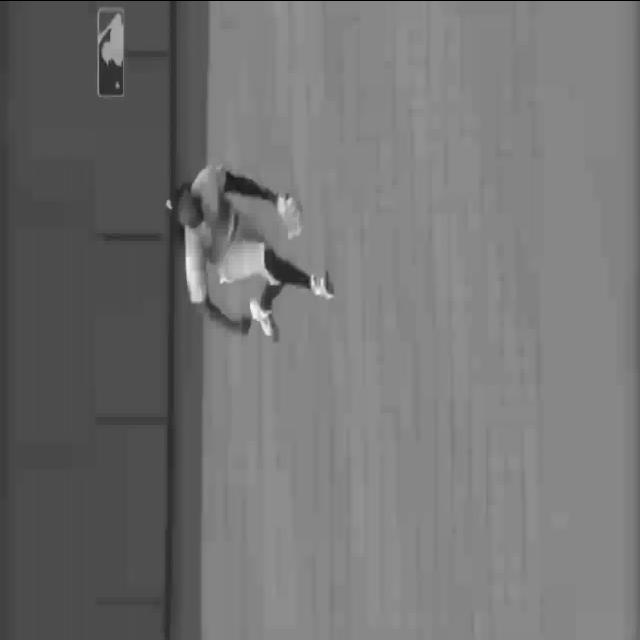baseball_glove: (276, 187, 306, 240)
shoe: (250, 304, 281, 342), (313, 256, 337, 298)
